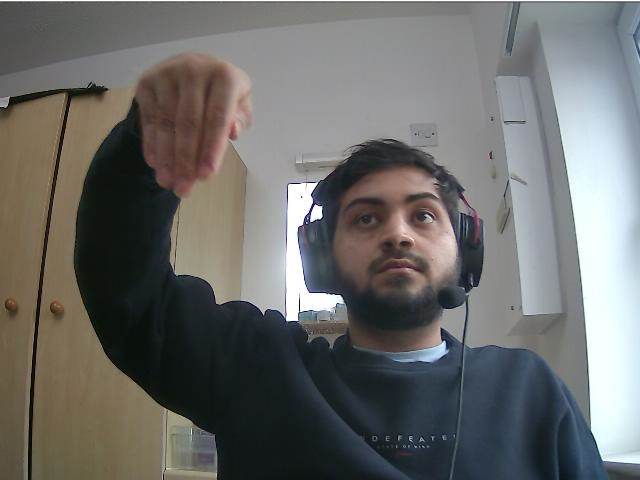down: (133, 41, 256, 201)
